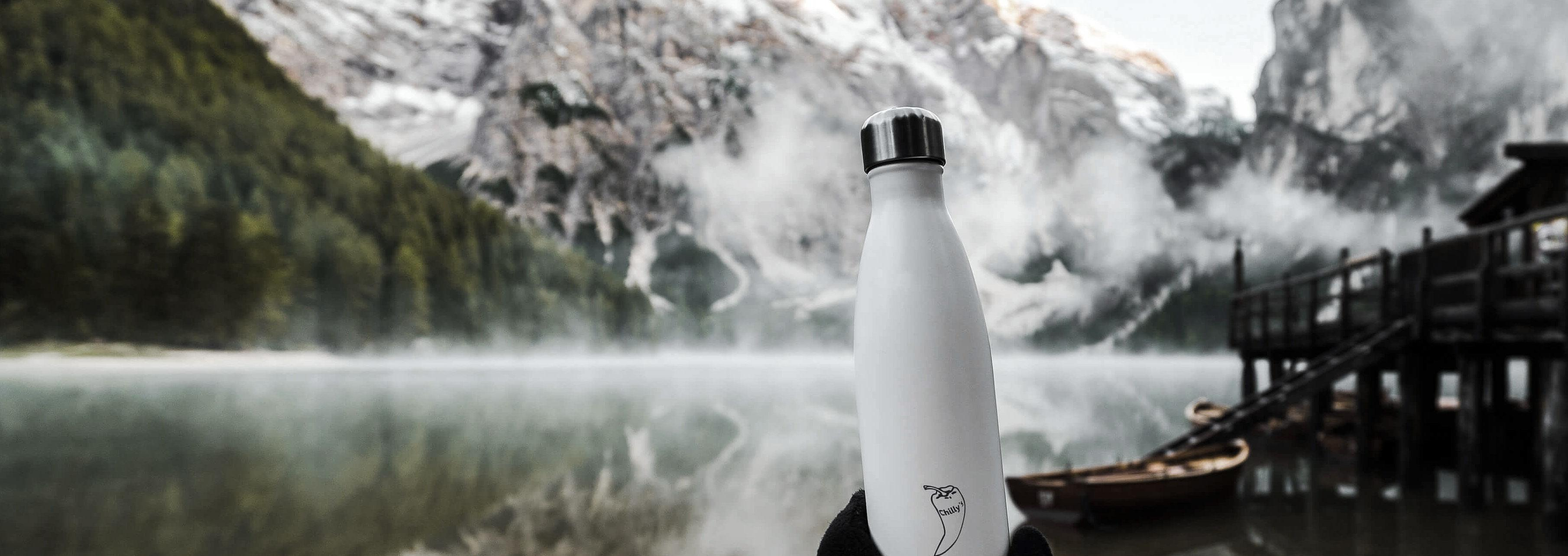gym bottle: (849, 102, 1012, 556)
